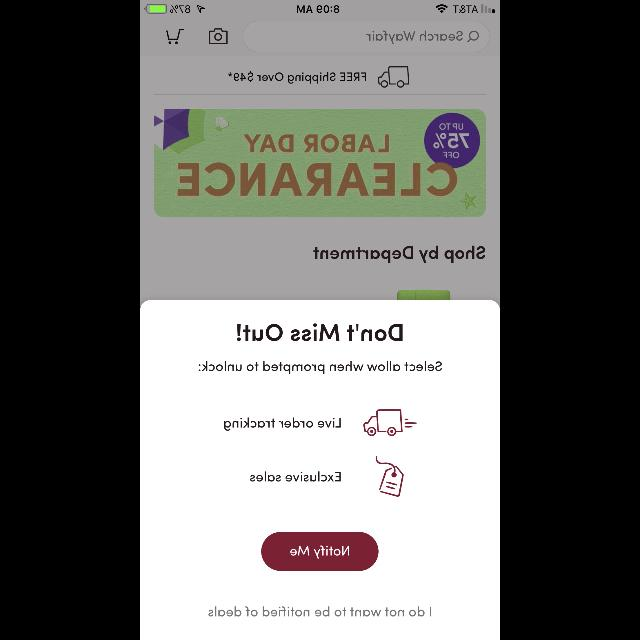icon: (376, 457, 404, 498)
image: (363, 409, 417, 436)
panel: (140, 300, 500, 640)
text: (237, 323, 403, 341), (198, 362, 442, 374), (208, 606, 432, 616), (224, 417, 340, 431), (250, 472, 340, 482)
textbutton: (262, 532, 378, 570)
uppertaskbar: (140, 0, 500, 14)
